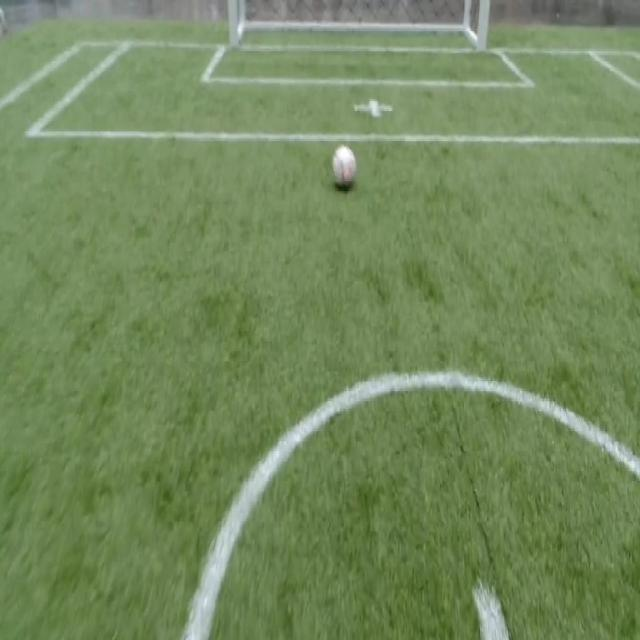ball: (333, 144, 356, 188)
goalpost: (471, 15, 488, 52), (227, 18, 241, 50)
